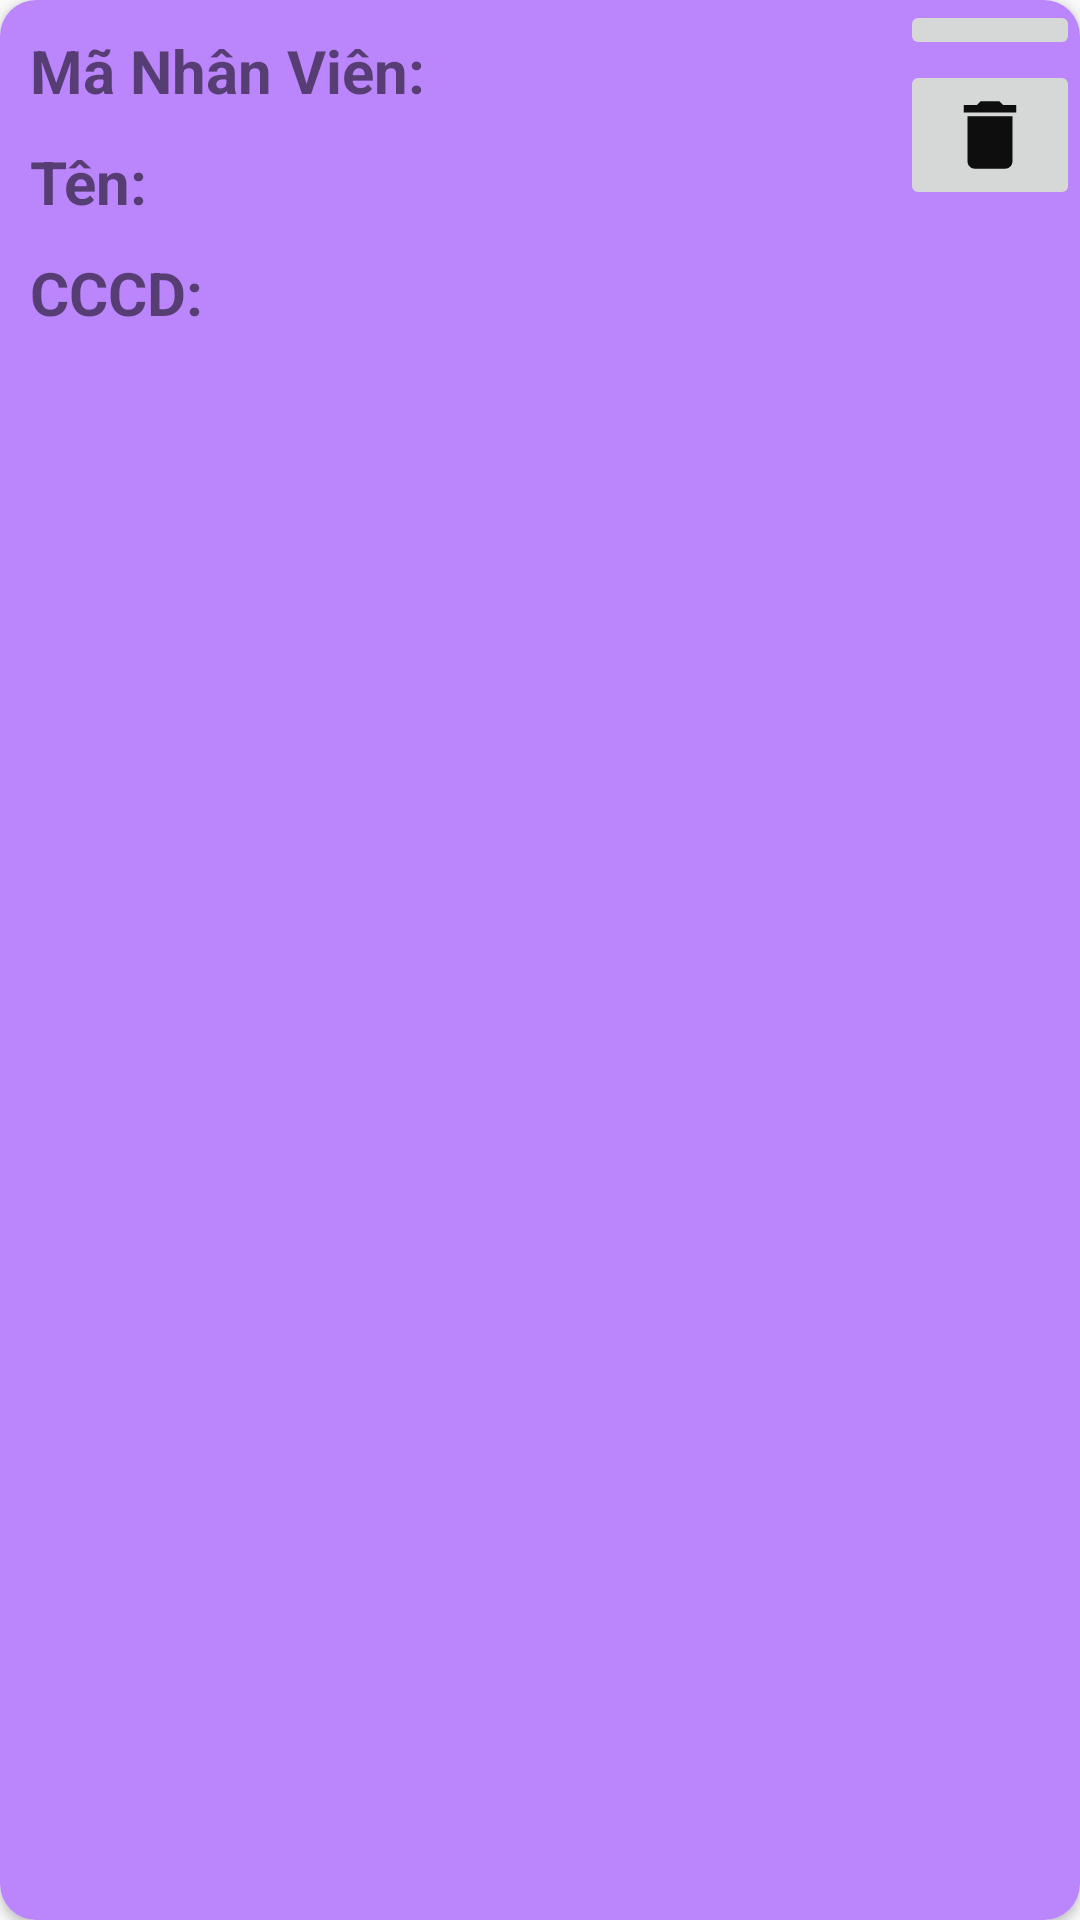

Locate icon controls on the screen. Image size 1080px x 1920px, boxes as (x1, y1, x2, y2).
Xóa: (912, 78, 1068, 192)
